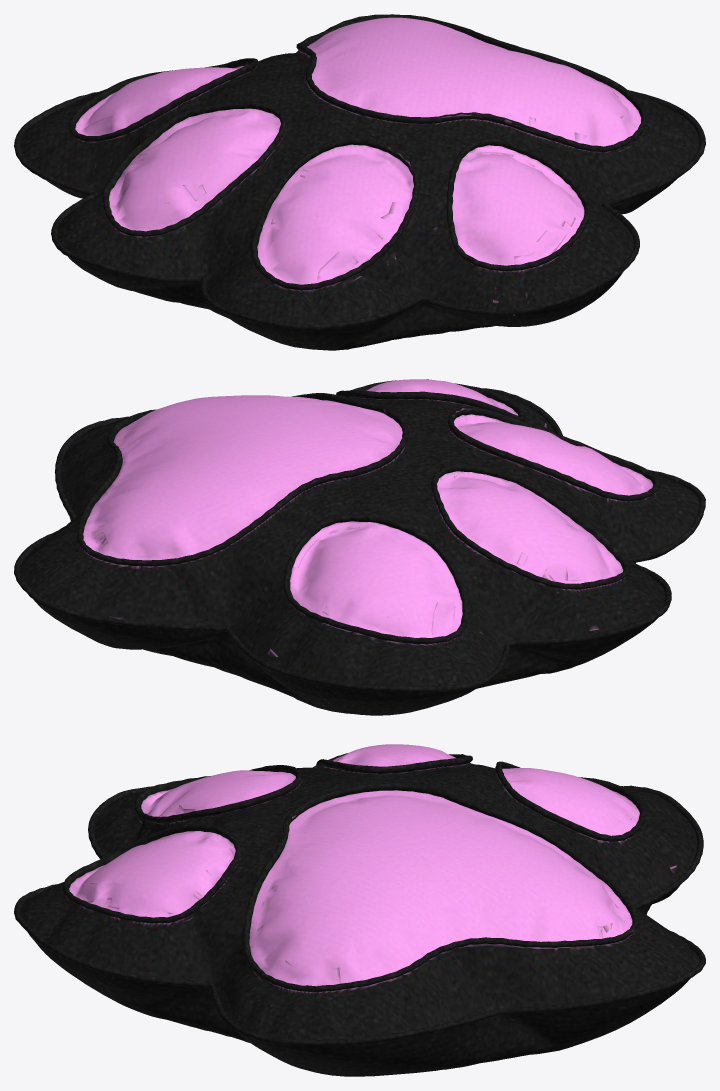
The model's file is cuscino_zampa.fbx.
The picture shows the model from 3 angles, top to bottom: view 1: azimuth 30°, elevation 25°; view 2: azimuth 150°, elevation 25°; view 3: azimuth 270°, elevation 25°; orthographic projection. The views are drawn at different scales.
Visible parts, largest first — view 1: path2.001; view 2: path2.001; view 3: path2.001.
Part boxes in pixels (bbox=[...]): path2.001: bbox=[14, 14, 705, 350]; path2.001: bbox=[14, 379, 705, 715]; path2.001: bbox=[14, 744, 705, 1076].
Bounding box in the file's own units: 50 × 12 × 48.
Materials: 1 (1 with a texture image).
